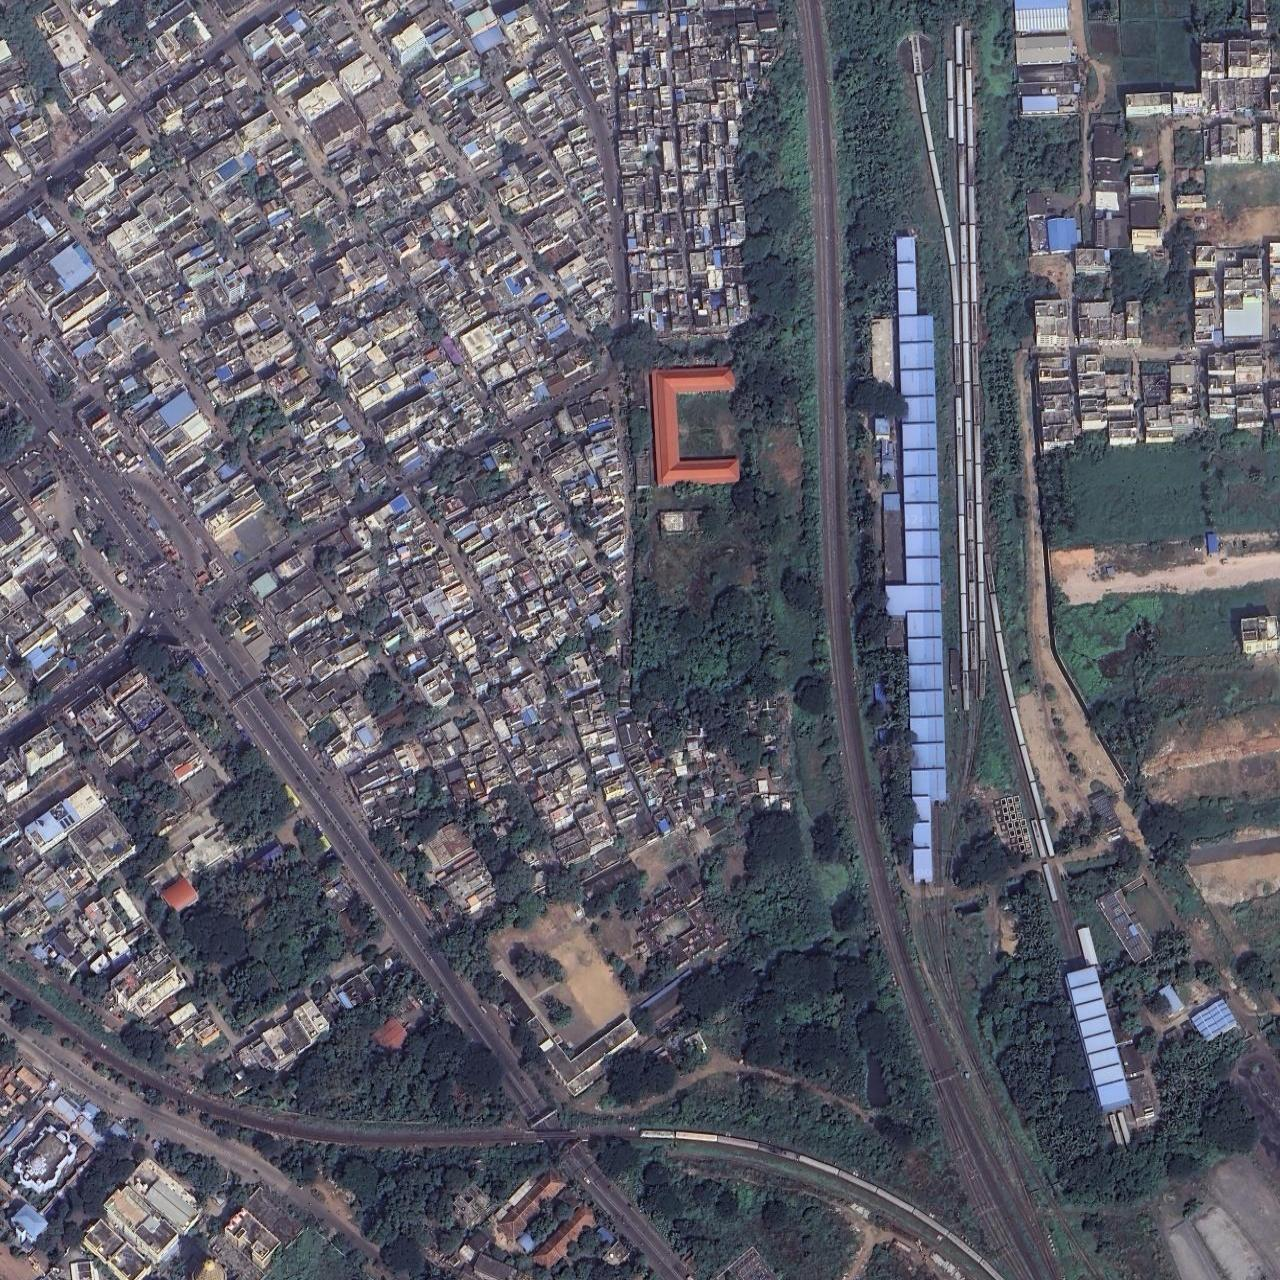greenery: (796, 0, 1280, 1280), (635, 13, 817, 948), (1055, 580, 1280, 912), (995, 999, 1258, 1280), (633, 437, 828, 792), (159, 850, 345, 1023), (688, 1065, 920, 1191), (1040, 430, 1280, 547), (293, 998, 510, 1122), (693, 1150, 887, 1280), (740, 942, 890, 1108), (1225, 892, 1280, 999), (676, 392, 740, 457)
house: (0, 0, 627, 675), (0, 667, 415, 1110), (270, 580, 678, 922), (610, 0, 777, 335), (1035, 240, 1280, 450), (68, 1141, 307, 1280), (0, 1050, 130, 1250), (1207, 77, 1265, 111)
